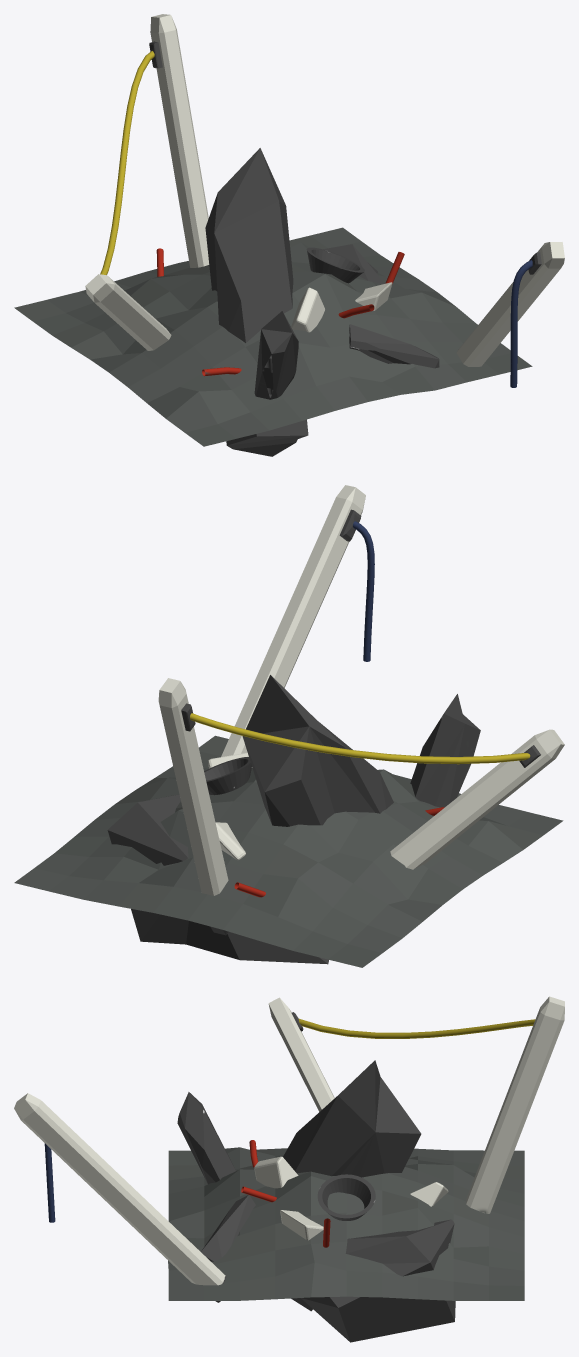
File: Ruinas.fbx
3 views of the same model, one above another, from view 1: azimuth 30°, elevation 25°; view 2: azimuth 150°, elevation 25°; view 3: azimuth 270°, elevation 25° (orthographic). The views are drawn at different scales.
Parts seen in each view (by area): view 1: Rock04.003, Rock04.004, Rock04.002, Rock04.001, Rock04.005; view 2: Rock04.003, Rock04.002, Rock04.004, Rock04.001, Rock04.005; view 3: Rock04.003, Rock04.002, Rock04.004, Rock04.001, Rock04.005.
Part boxes in pixels (box(x1,y1,x2,y2)): Rock04.003: box(14, 18, 532, 446); Rock04.004: box(205, 148, 308, 456); Rock04.002: box(85, 14, 209, 350); Rock04.001: box(456, 242, 564, 387); Rock04.005: box(254, 311, 298, 399); Rock04.003: box(14, 682, 563, 967); Rock04.002: box(158, 678, 564, 935); Rock04.004: box(242, 675, 393, 826); Rock04.001: box(221, 485, 374, 756); Rock04.005: box(410, 694, 480, 807); Rock04.003: box(168, 1140, 524, 1342); Rock04.002: box(268, 996, 564, 1213); Rock04.004: box(283, 1060, 421, 1311); Rock04.001: box(14, 1093, 226, 1302); Rock04.005: box(177, 1092, 235, 1184).
Bounding box in the file's own units: 196 × 166 × 258.
